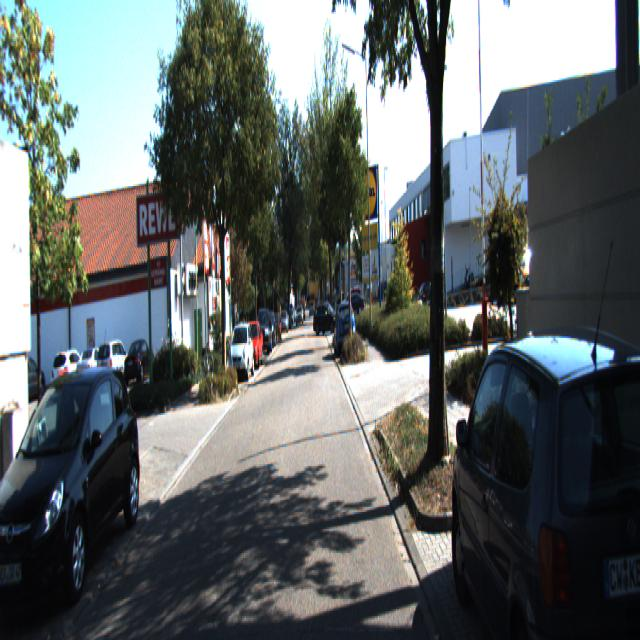Car: (444, 312, 640, 638), (0, 350, 144, 619), (96, 338, 135, 392), (50, 349, 91, 400), (123, 337, 158, 392), (76, 346, 112, 395), (228, 323, 254, 382), (334, 301, 356, 358), (241, 319, 263, 369)
